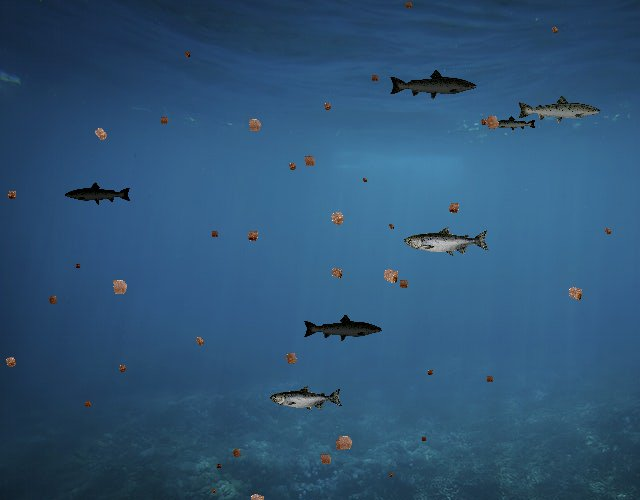Fish: (389, 68, 479, 101), (516, 94, 602, 125), (404, 226, 490, 257), (302, 314, 383, 343), (270, 385, 343, 411), (64, 181, 132, 206), (491, 116, 538, 133)
Pellet: (104, 271, 134, 302), (241, 112, 268, 139), (0, 351, 22, 373), (242, 225, 264, 247), (394, 275, 412, 293), (368, 71, 382, 85), (424, 366, 437, 379), (181, 49, 194, 62), (208, 486, 218, 496)
